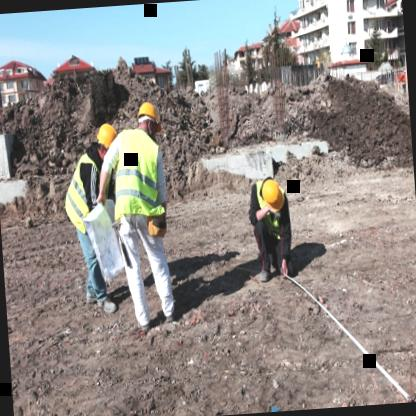helmet: (136, 98, 164, 135), (260, 179, 288, 214), (96, 121, 120, 159)
